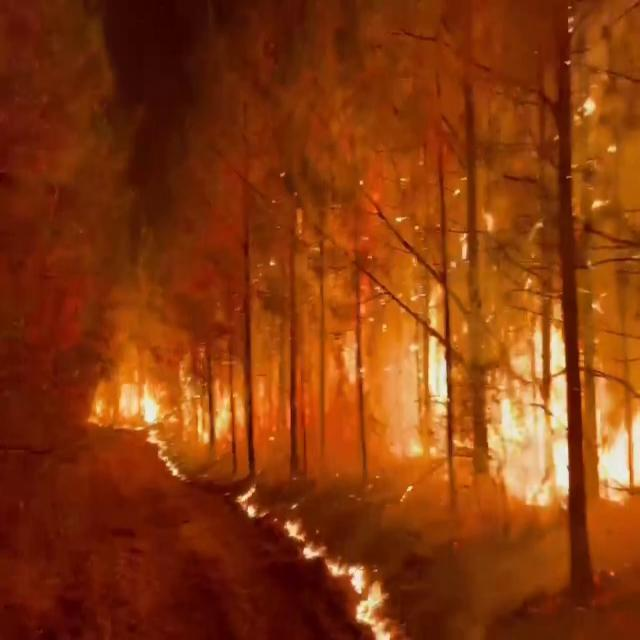Fire: (375, 294, 640, 534), (84, 360, 171, 440), (346, 559, 398, 640), (282, 514, 328, 567)
Smoke: (131, 0, 638, 431)
